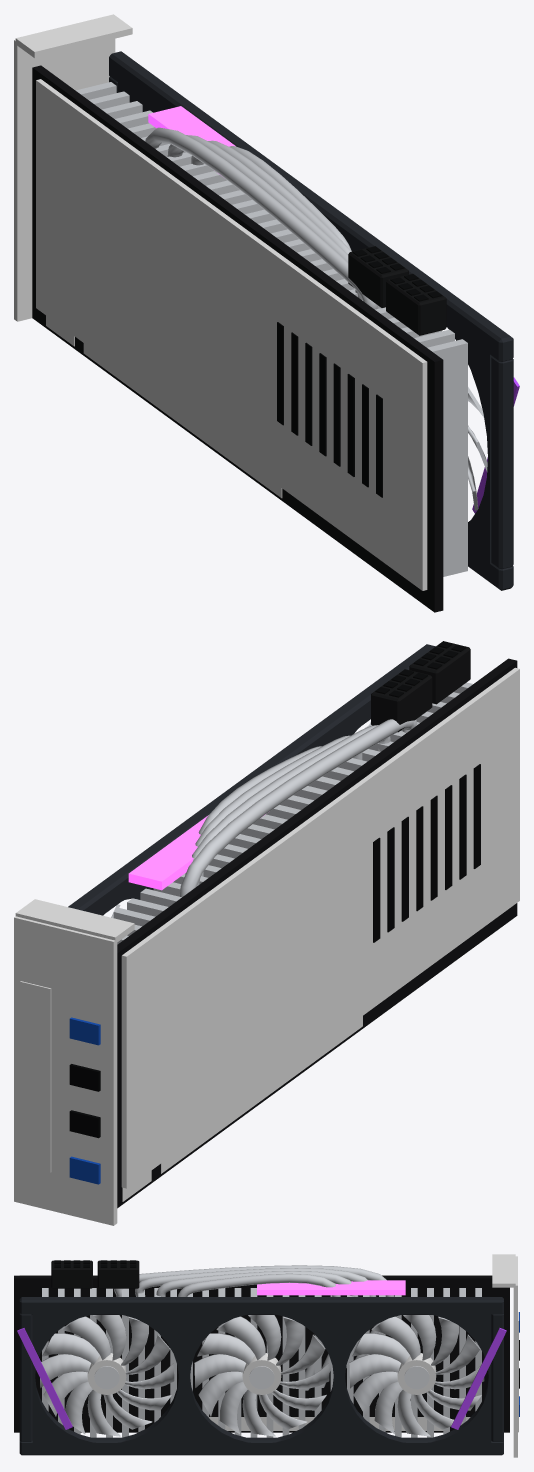
File: hw_gpu_rtx4080s.glb
3 renders of one model, top to bottom at view 1: azimuth 30°, elevation 25°; view 2: azimuth 150°, elevation 25°; view 3: azimuth 270°, elevation 25°, orthographic. The views are drawn at different scales.
Parts seen in each view (by area): view 1: Body; view 2: Body; view 3: Body, Rotor_X_1, Rotor_X_0, Rotor_X_2.
Boxes of the visible parts, x1=… form: Body: x1=14, y1=14, x2=519, y2=612; Body: x1=14, y1=641, x2=519, y2=1225; Body: x1=14, y1=1254, x2=519, y2=1457; Rotor_X_1: x1=194, y1=1315, x2=329, y2=1436; Rotor_X_0: x1=349, y1=1315, x2=484, y2=1436; Rotor_X_2: x1=40, y1=1315, x2=174, y2=1436.
Size of the model in its own units: 0.0367 by 0.1006 by 0.2611.
